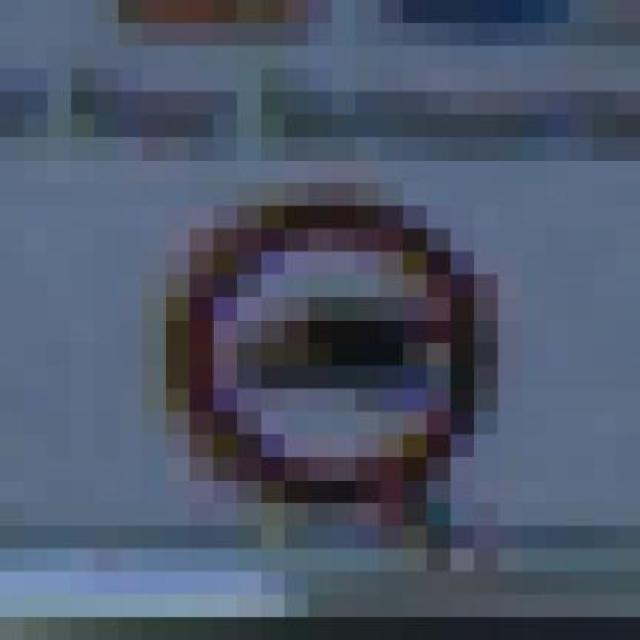Truck traffic is prohibited: (118, 159, 545, 572)
